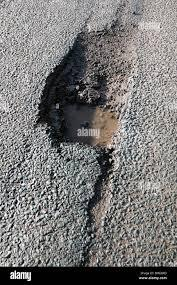crack: (76, 150, 124, 274)
pothole: (25, 24, 142, 158)
